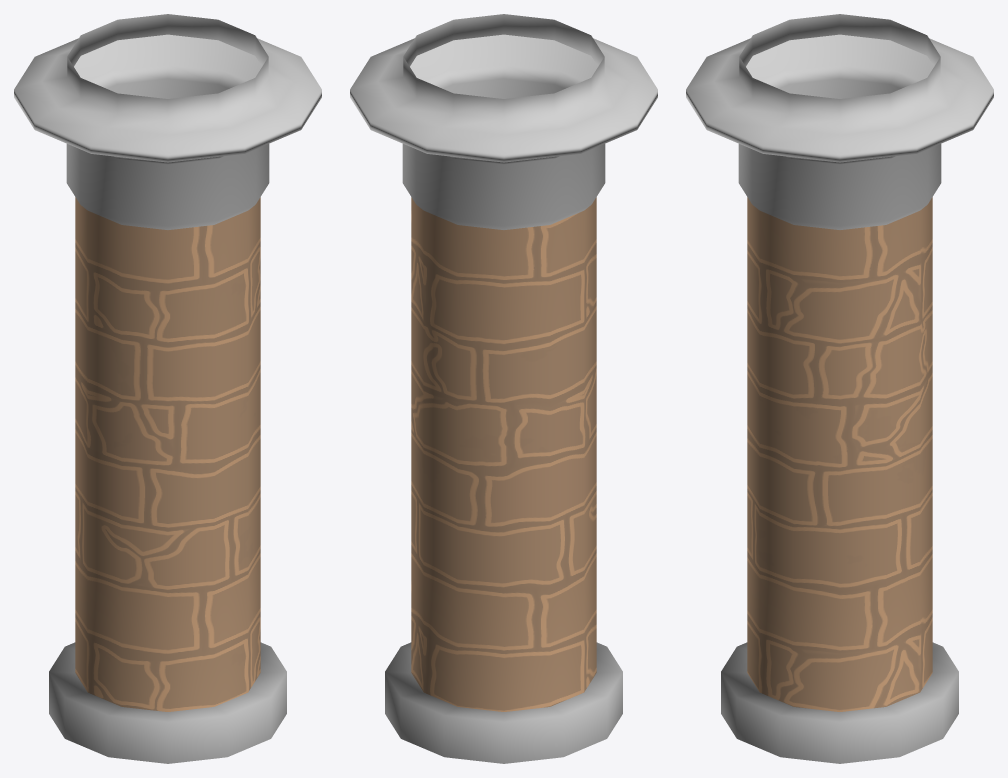
Rendered from Pillar1_FBX.fbx.
3 views of the same model, side by side, from view 1: azimuth 30°, elevation 25°; view 2: azimuth 150°, elevation 25°; view 3: azimuth 270°, elevation 25° (orthographic).
Visible parts, largest first — view 1: Pillar1; view 2: Pillar1; view 3: Pillar1.
Part boxes in pixels (left/top/right/bottom): Pillar1: left=14, top=14, right=321, bottom=763; Pillar1: left=350, top=14, right=657, bottom=763; Pillar1: left=686, top=14, right=993, bottom=763.
Size of the model in its own units: 1.71 by 4.02 by 1.71.
